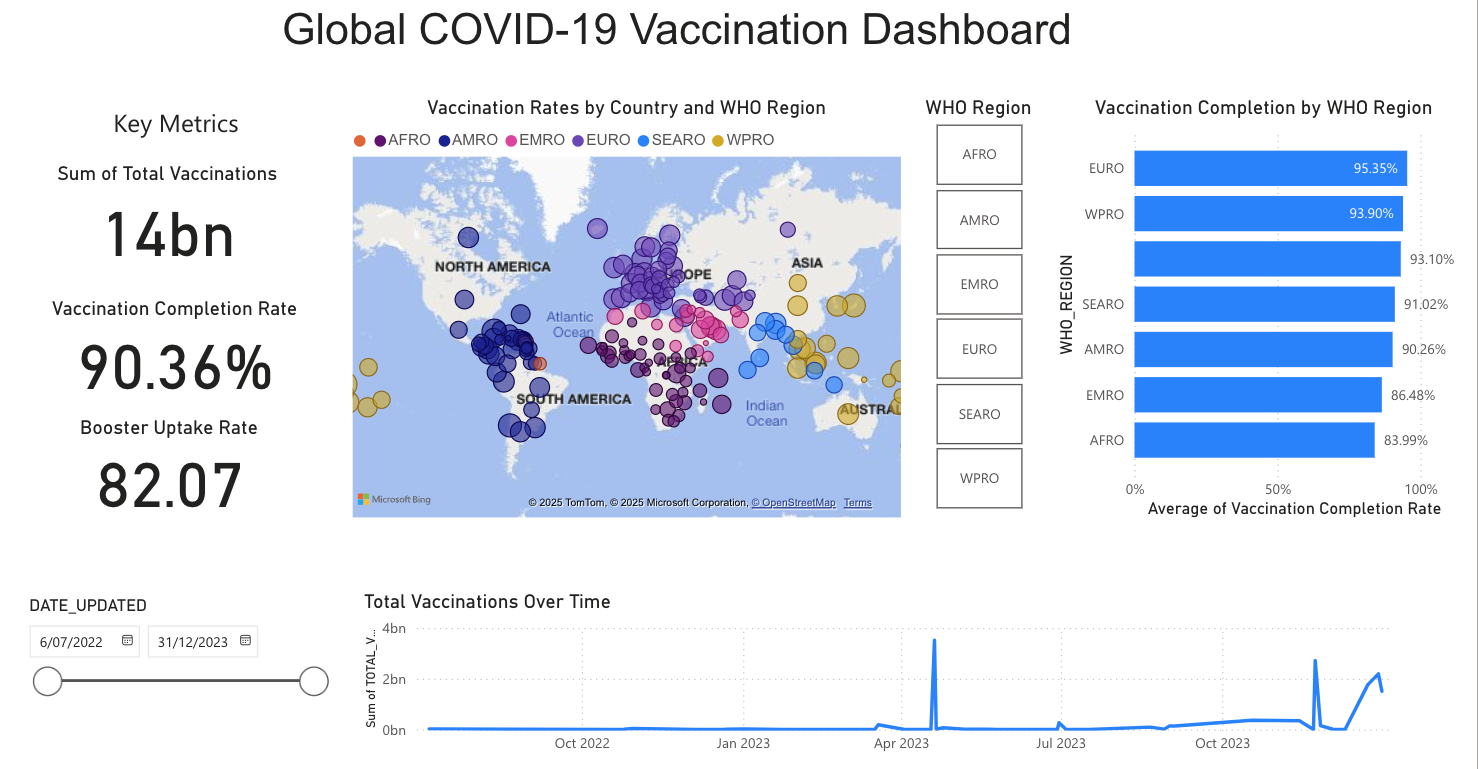

The page's visual inventory and layout, read from the dashboard file:
{"tool":"powerbi","page":{"name":"Page 1","canvas":[1280,720],"ordinal":0},"visuals":[{"type":"textbox","box":[240.4,0,1039.8,71.1],"z":0},{"type":"card","title":"Sum of Total Vaccinations","fields":{"Values":["Sum(vaccination-data.TOTAL_VACCINATIONS)"]},"box":[0,143.7,293,89.6],"z":1000},{"type":"card","title":"Vaccination Completion Rate","fields":{"Values":["Avg(vaccination-data.Vaccination Completion Rate)"]},"box":[7.1,260.3,291.6,85.3],"z":2000},{"type":"card","title":"Booster Uptake Rate","fields":{"Values":["Sum(vaccination-data.Booster Uptake Rate)"]},"box":[1.4,362.7,293,85.3],"z":3000},{"type":"textbox","box":[12.8,86.8,266,46.9],"z":4000},{"type":"map","title":"Vaccination Rates by Country and WHO Region","fields":{"Category":["vaccination-data.COUNTRY"],"Size":["Sum(vaccination-data.TOTAL_VACCINATIONS_PER100)"],"Series":["vaccination-data.WHO_REGION"]},"box":[301.5,86.8,485,367],"z":5000},{"type":"slicer","fields":{"Values":["vaccination-data.WHO_REGION"]},"box":[786.6,76.8,135.1,367],"z":6000},{"type":"clusteredBarChart","title":"Vaccination Completion by WHO Region","fields":{"Category":["vaccination-data.WHO_REGION"],"Y":["Avg(vaccination-data.Vaccination Completion Rate)"]},"box":[910.3,86.8,315.8,398.3],"z":7000},{"type":"lineChart","title":"Total Vaccinations Over Time","fields":{"Y":["Sum(vaccination-data.TOTAL_VACCINATIONS)"],"Category":["vaccination-data.DATE_UPDATED"]},"box":[301.5,485,914.6,149.3],"z":8000},{"type":"slicer","fields":{"Values":["vaccination-data.DATE_UPDATED"]},"box":[14.2,513.5,280.2,186.3],"z":9000}]}

Visuals, with their boxes on the page's 1280x720 design canvas (x1, y1, x2, y2). These are canvas units, not pixel positions in the 1478x769 screenshot, which may show the page scaled, cropped or inside an application window:
textbox: pyautogui.locateOnScreen(240, 0, 1280, 71)
"Sum of Total Vaccinations" card: pyautogui.locateOnScreen(0, 144, 293, 233)
"Vaccination Completion Rate" card: pyautogui.locateOnScreen(7, 260, 299, 346)
"Booster Uptake Rate" card: pyautogui.locateOnScreen(1, 363, 294, 448)
textbox: pyautogui.locateOnScreen(13, 87, 279, 134)
"Vaccination Rates by Country and WHO Region" map: pyautogui.locateOnScreen(302, 87, 786, 454)
slicer - vaccination-data.WHO_REGION: pyautogui.locateOnScreen(787, 77, 922, 444)
"Vaccination Completion by WHO Region" clusteredBarChart: pyautogui.locateOnScreen(910, 87, 1226, 485)
"Total Vaccinations Over Time" lineChart: pyautogui.locateOnScreen(302, 485, 1216, 634)
slicer - vaccination-data.DATE_UPDATED: pyautogui.locateOnScreen(14, 514, 294, 700)
